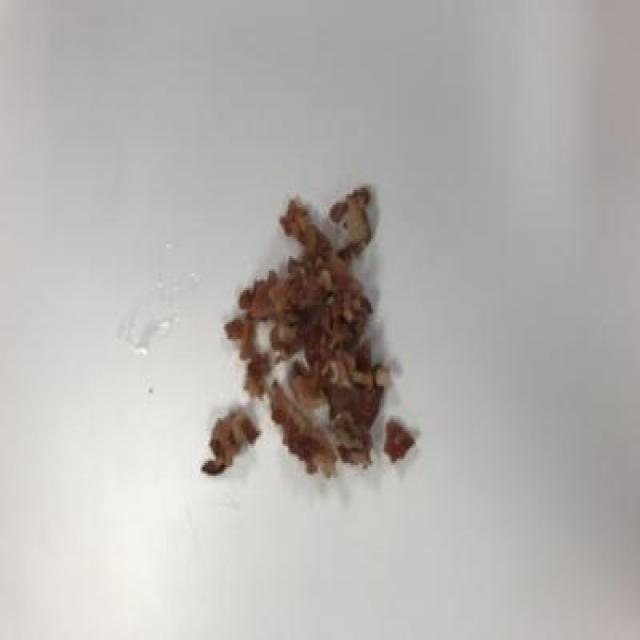compost: (178, 172, 434, 499)
